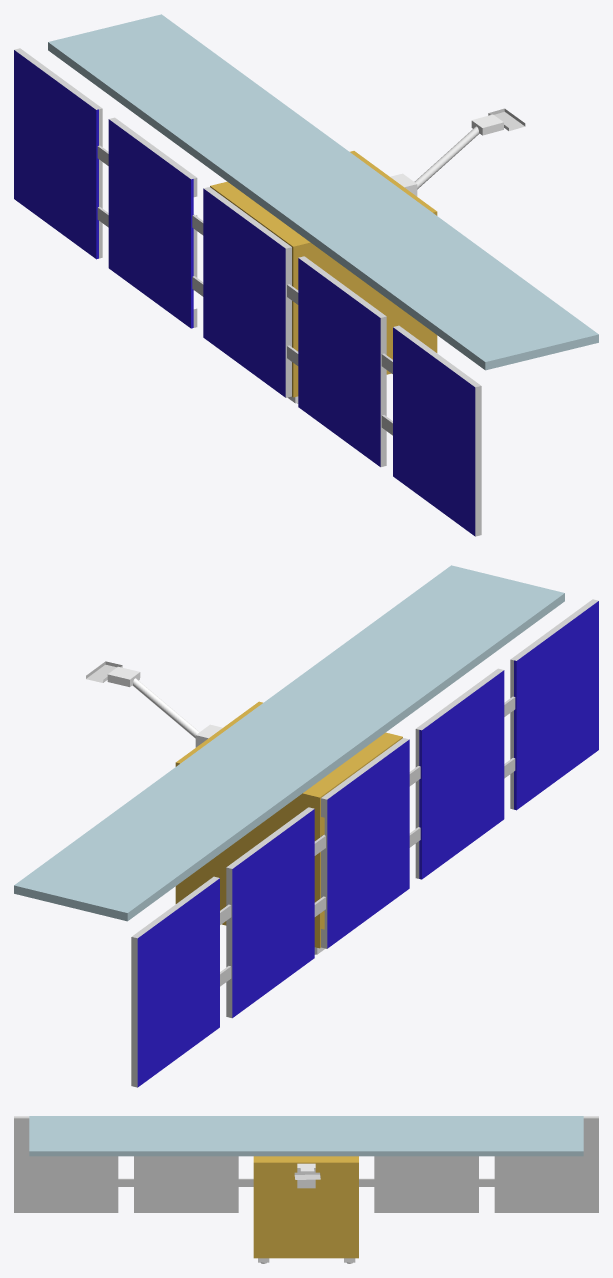
The model's file is Satellite.glb.
3 renders of one model, top to bottom at view 1: azimuth 30°, elevation 25°; view 2: azimuth 150°, elevation 25°; view 3: azimuth 270°, elevation 25°, orthographic. The views are drawn at different scales.
Parts seen in each view (by area): view 1: SOLP, RAD, Plane, Cube, Cube.001, SOLP_connection; view 2: SOLP, RAD, Plane, Cube, Cube.001, SOLP_connection; view 3: Plane, RAD, Cube, SOLP_connection, Cube.001.
Part boxes in pixels (x1,y1,x2,y2): SOLP: (14,50,475,536); RAD: (48,14,598,370); Plane: (14,48,481,536); Cube: (210,151,437,397); Cube.001: (390,113,508,196); SOLP_connection: (97,145,392,435); SOLP: (137,601,598,1087); RAD: (14,565,564,921); Plane: (131,599,598,1087); Cube: (175,701,402,948); Cube.001: (103,665,222,747); SOLP_connection: (220,696,515,986); Plane: (14,1116,598,1212); RAD: (29,1116,583,1156); Cube: (253,1156,358,1258); SOLP_connection: (118,1178,494,1186); Cube.001: (294,1163,319,1188).
Bounding box in the file's own units: 3.59 × 2.53 × 10.55.
